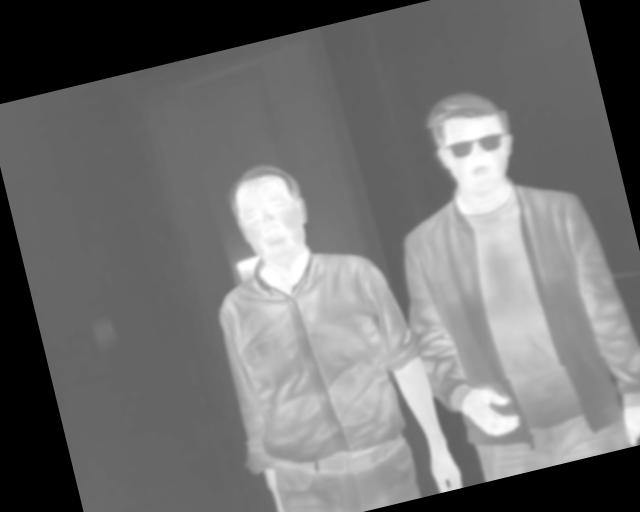face: (420, 80, 526, 205), (222, 154, 321, 276)
